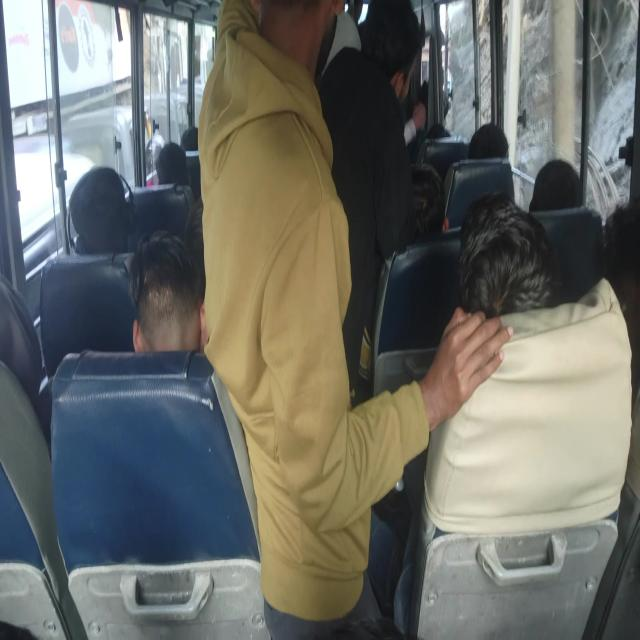person: (114, 240, 212, 363), (458, 210, 542, 345), (0, 270, 39, 482), (254, 6, 327, 118), (358, 16, 412, 133), (611, 207, 640, 363), (391, 173, 446, 244), (79, 172, 128, 250), (526, 160, 583, 214), (158, 140, 183, 181), (468, 128, 499, 159), (183, 124, 207, 154)
